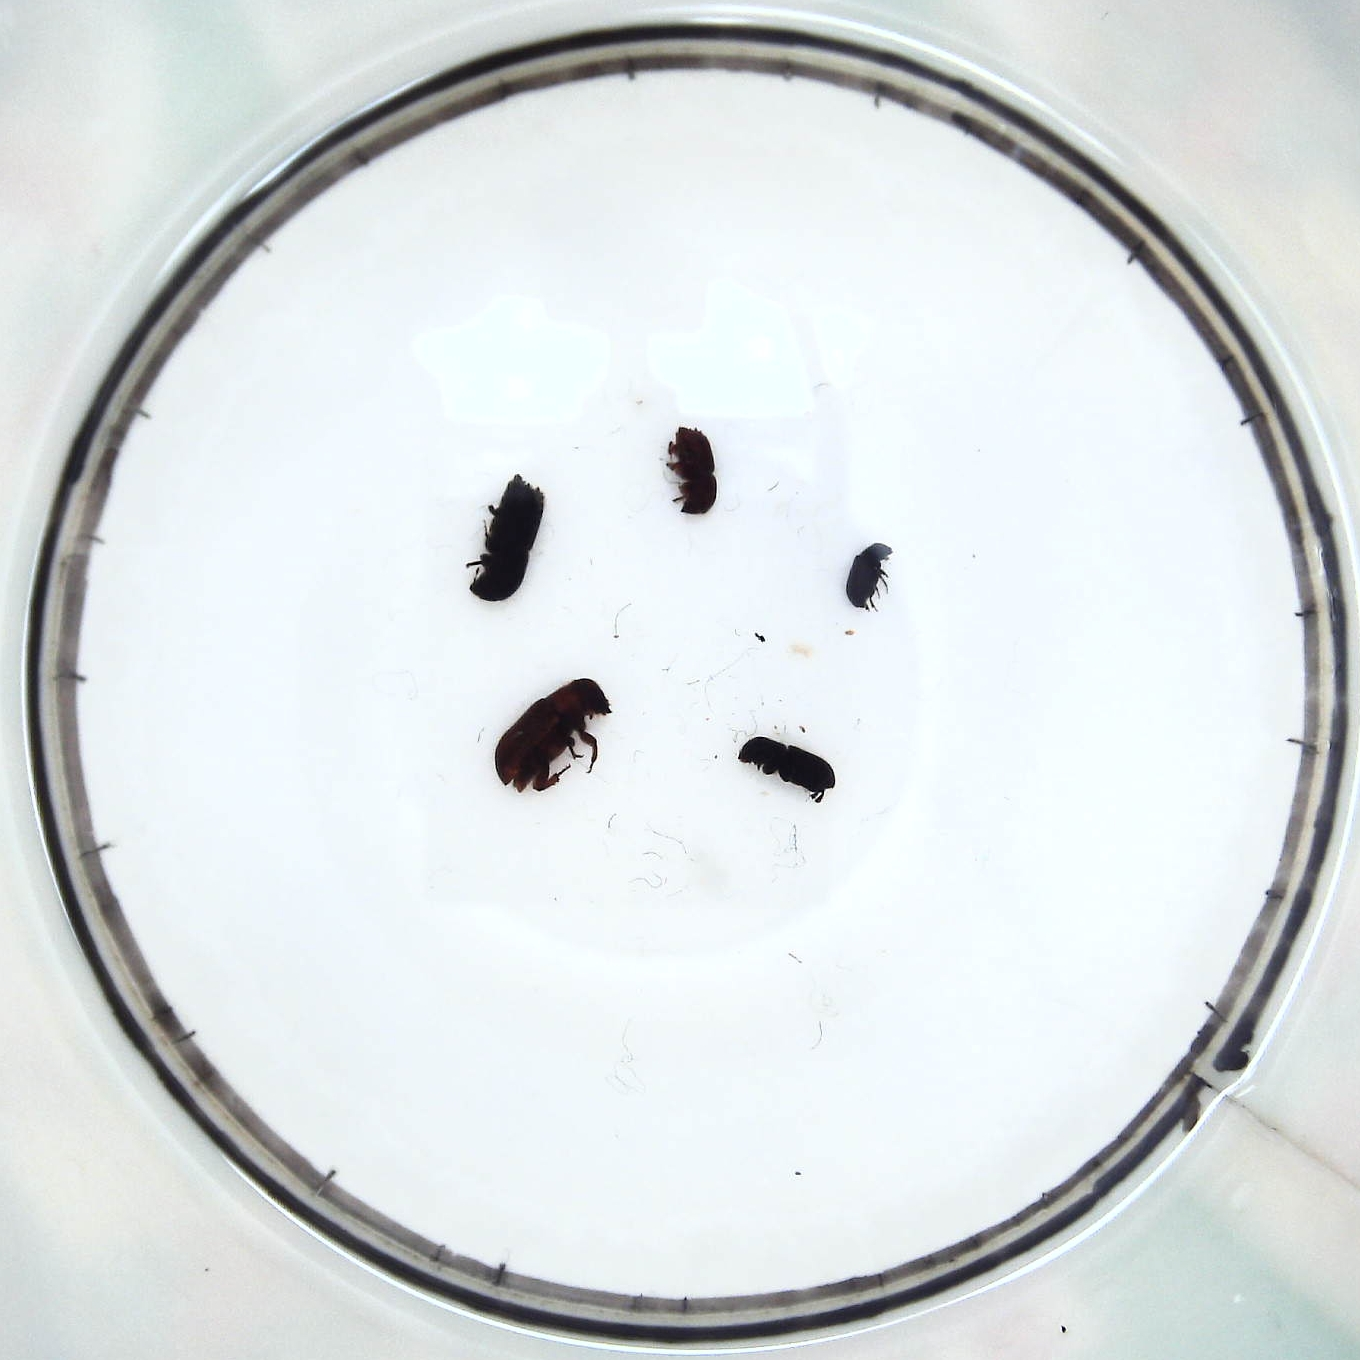Boerner: (466, 472, 550, 604)
Leconte: (493, 675, 615, 798)
Linnaeus: (660, 416, 727, 516)
armandi: (736, 734, 836, 811)
coleoptera: (843, 537, 895, 613)
